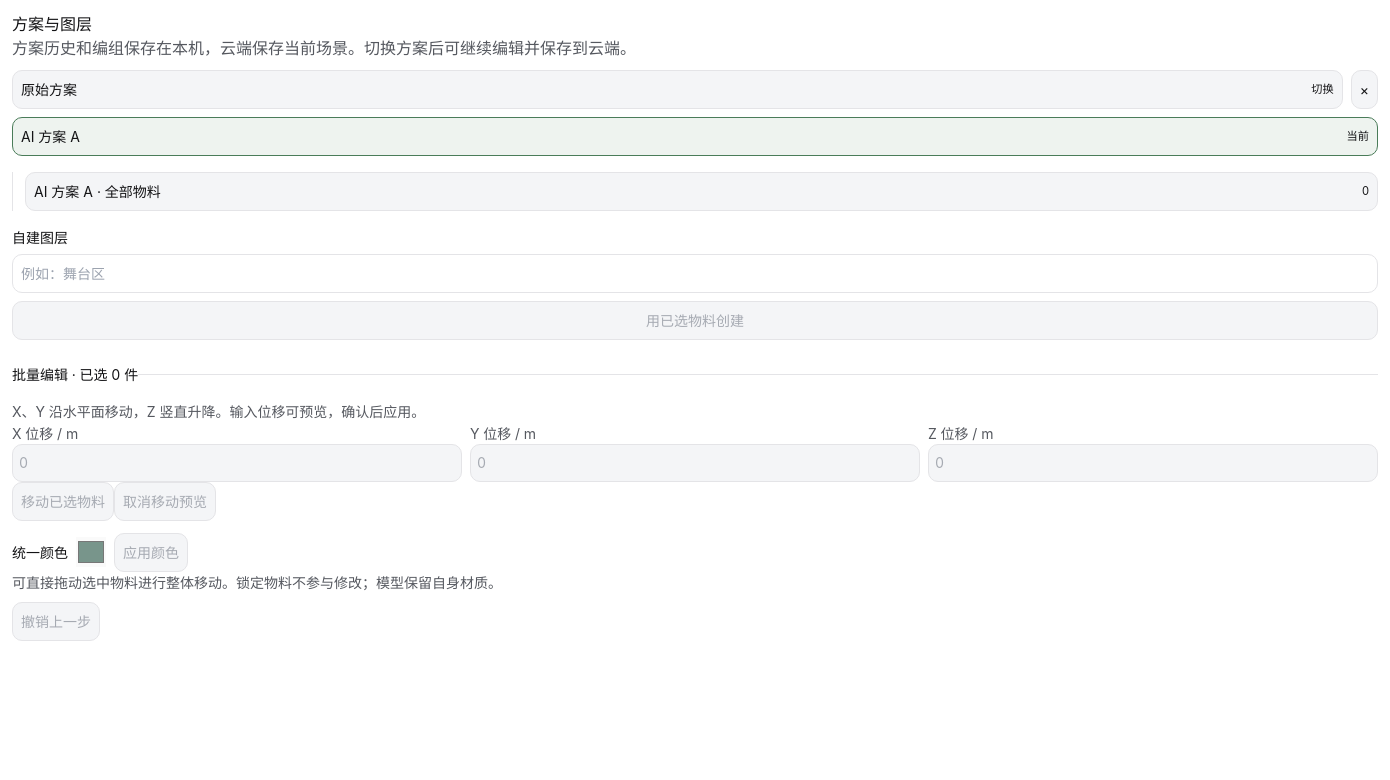
it: retains the current design on model-load failure
Step 1. Click the button named "原始方案切换" → [49, 89], box [12,70,1343,109]
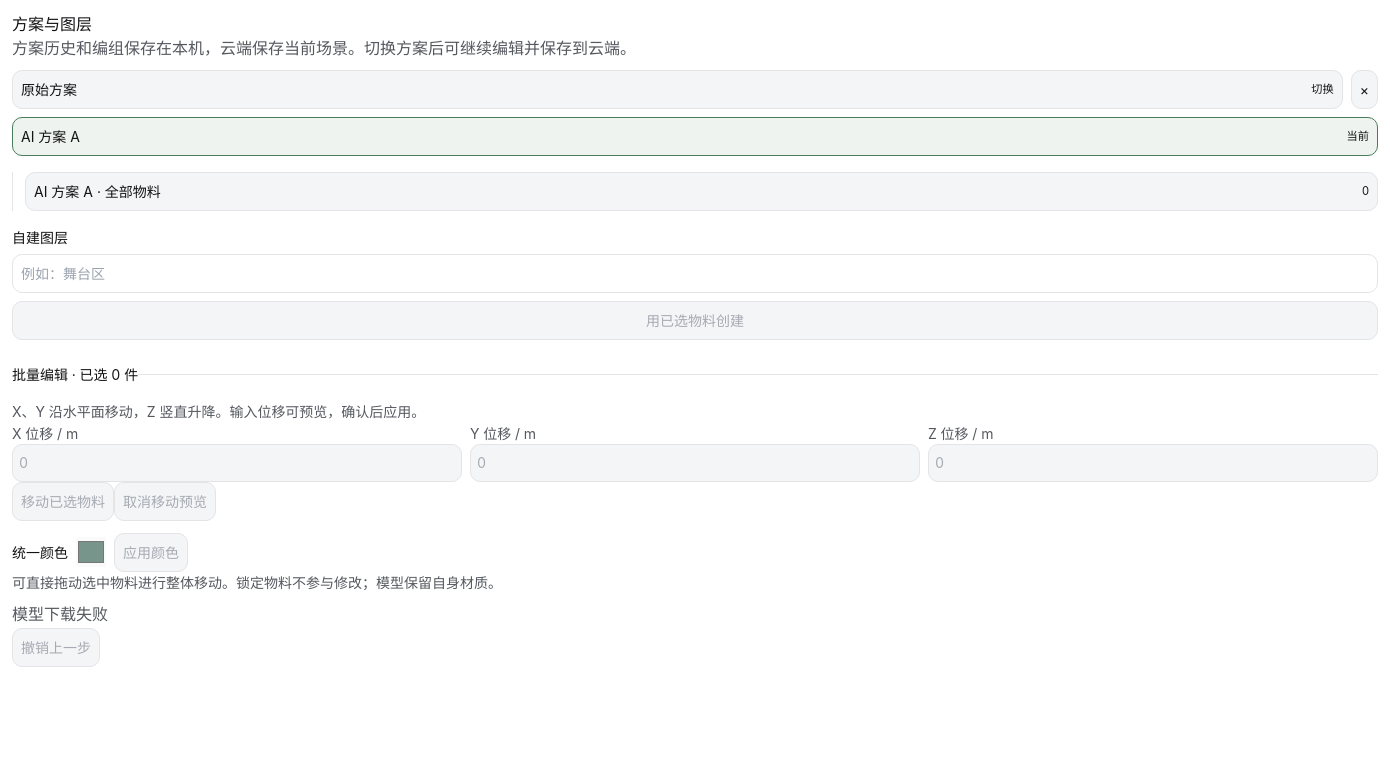
Check: the text "模型下载失败" is shown, box [12,604,108,624]
